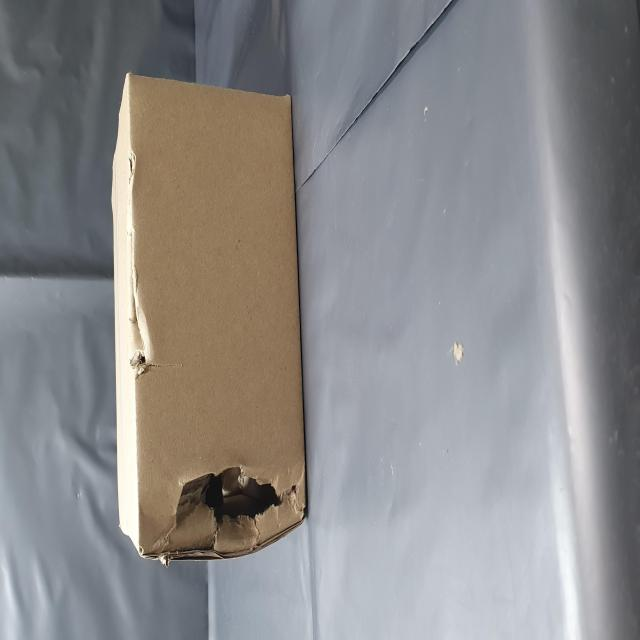damaged: (51, 300, 99, 534)
